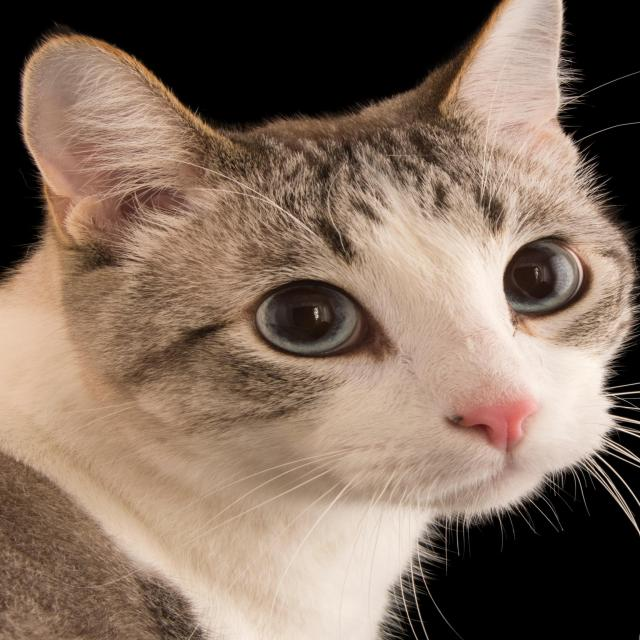Cat: (24, 0, 640, 527)
